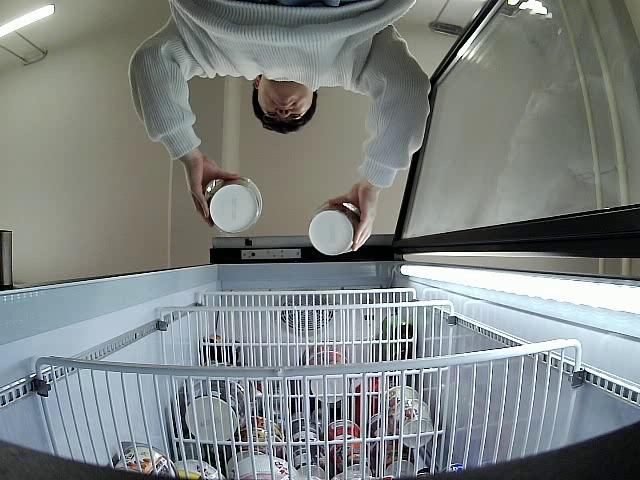00_hand: (186, 155, 241, 229), (329, 183, 377, 254)
03_chapagetti_L: (201, 175, 263, 233), (309, 202, 365, 257)
